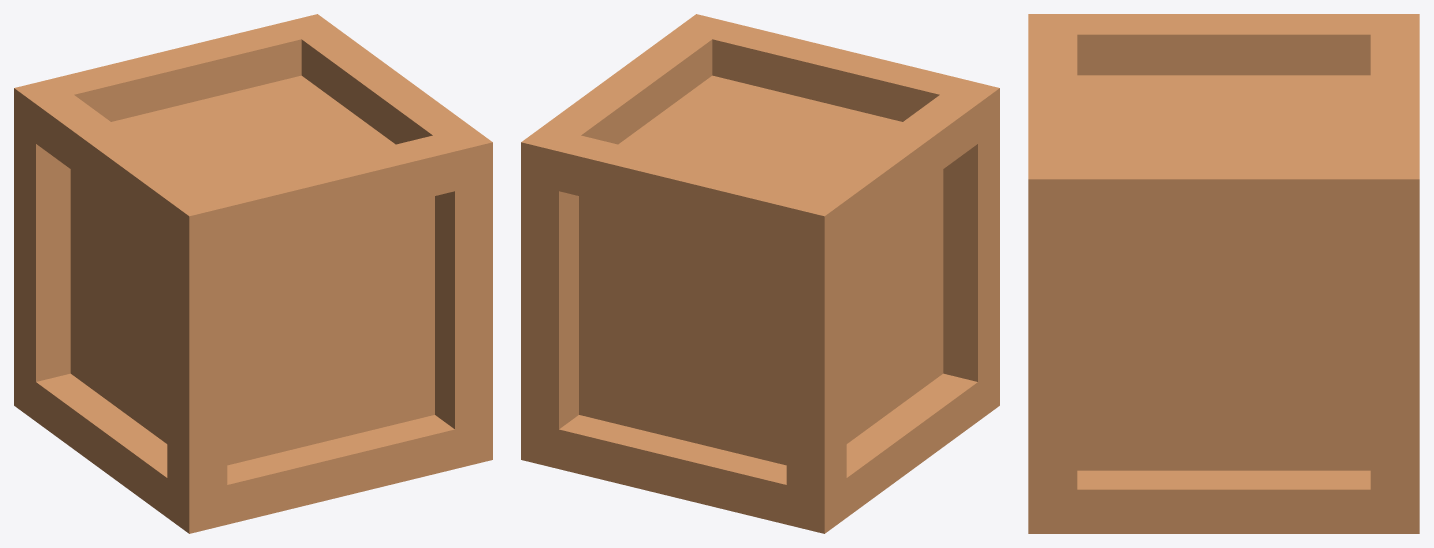
The picture shows the model from 3 angles, left to right: view 1: azimuth 30°, elevation 25°; view 2: azimuth 150°, elevation 25°; view 3: azimuth 270°, elevation 25°; orthographic projection. The views are drawn at different scales.
Parts seen in each view (by area): view 1: Box; view 2: Box; view 3: Box.
Boxes of the visible parts, <box> form: Box: <box>14,14,492,533</box>; Box: <box>521,14,999,533</box>; Box: <box>1028,14,1419,533</box>.
Size of the model in its own units: 0.509 by 0.509 by 0.509.
